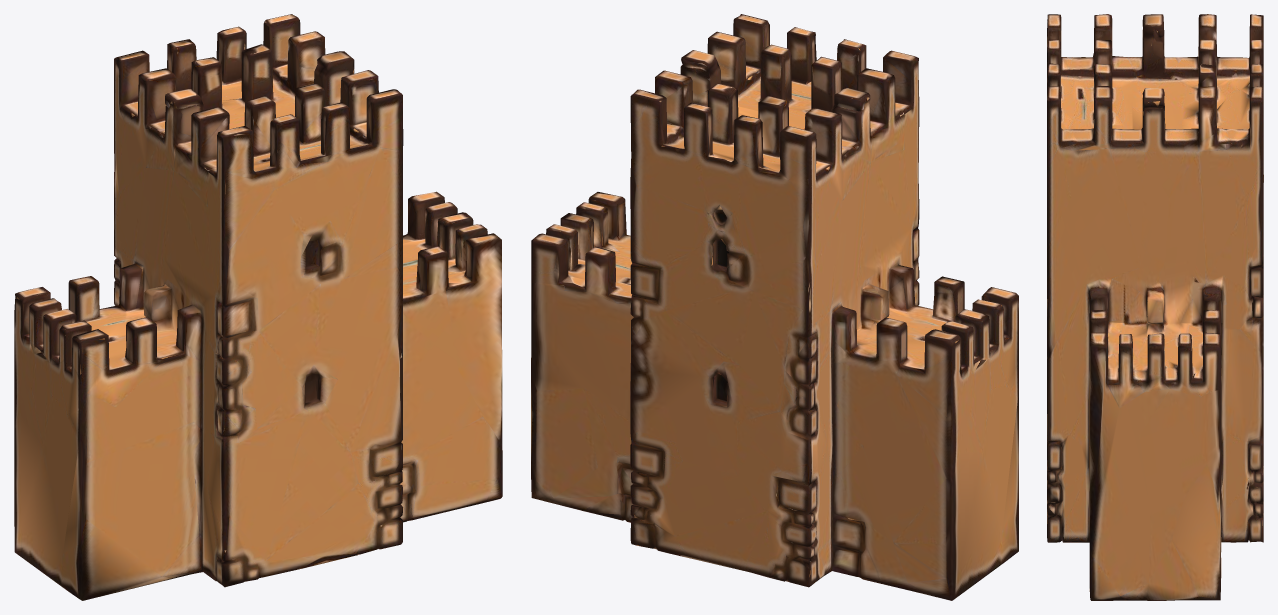
The model's file is castello.glb.
The picture shows the model from 3 angles, left to right: view 1: azimuth 30°, elevation 25°; view 2: azimuth 150°, elevation 25°; view 3: azimuth 270°, elevation 25°; orthographic projection.
Size of the model in its own units: 1.87 by 1.9 by 0.8415.
1 material, 1 textured.
